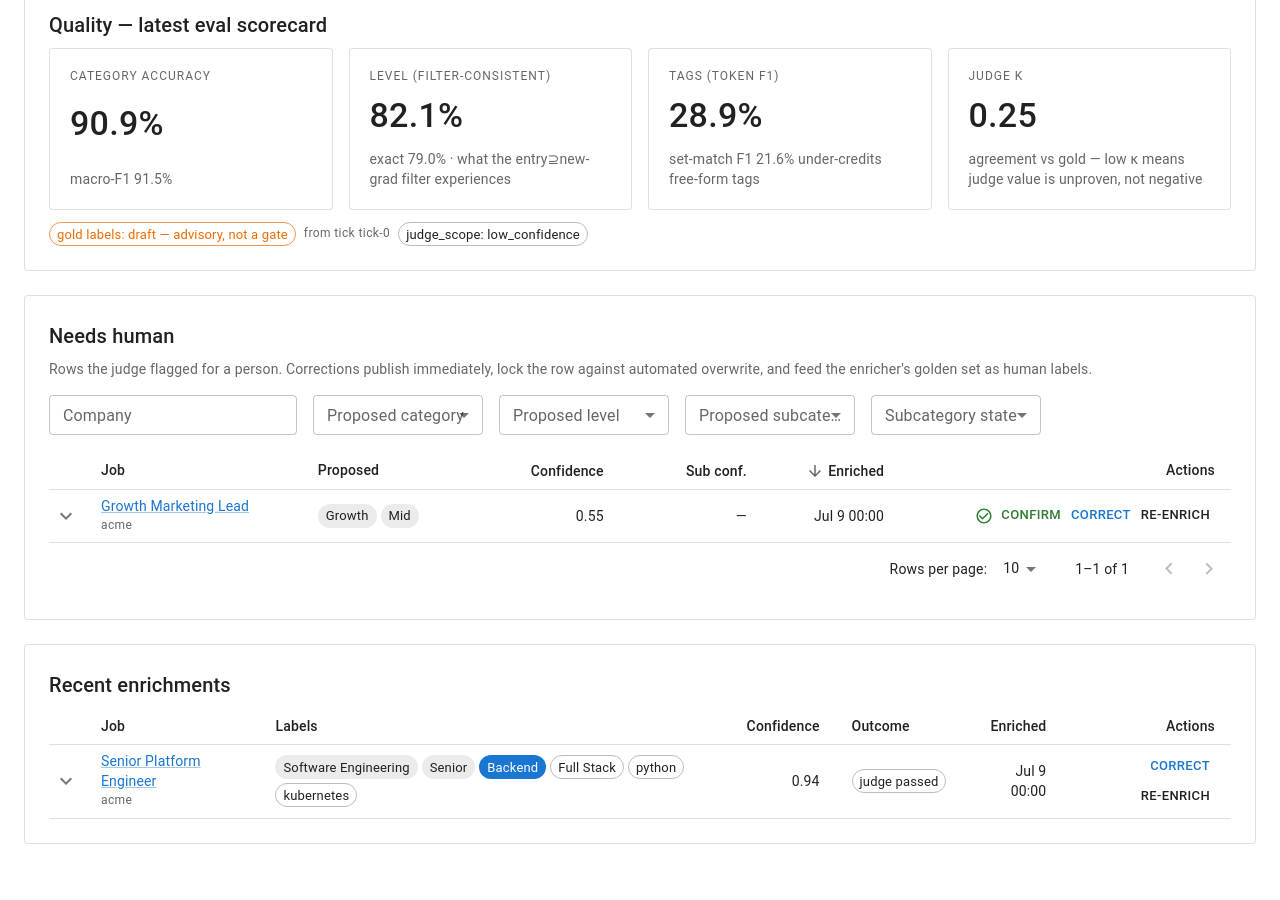
AdminEnrichmentPage › surfaces an error Alert when a needs-human re-enrich fails
This screenshot has width=1280, height=900.
(page scrolled)
Click the button "Re-enrich" in the row of "Growth Marketing Lead": (1175, 516) [1136, 500, 1215, 531]
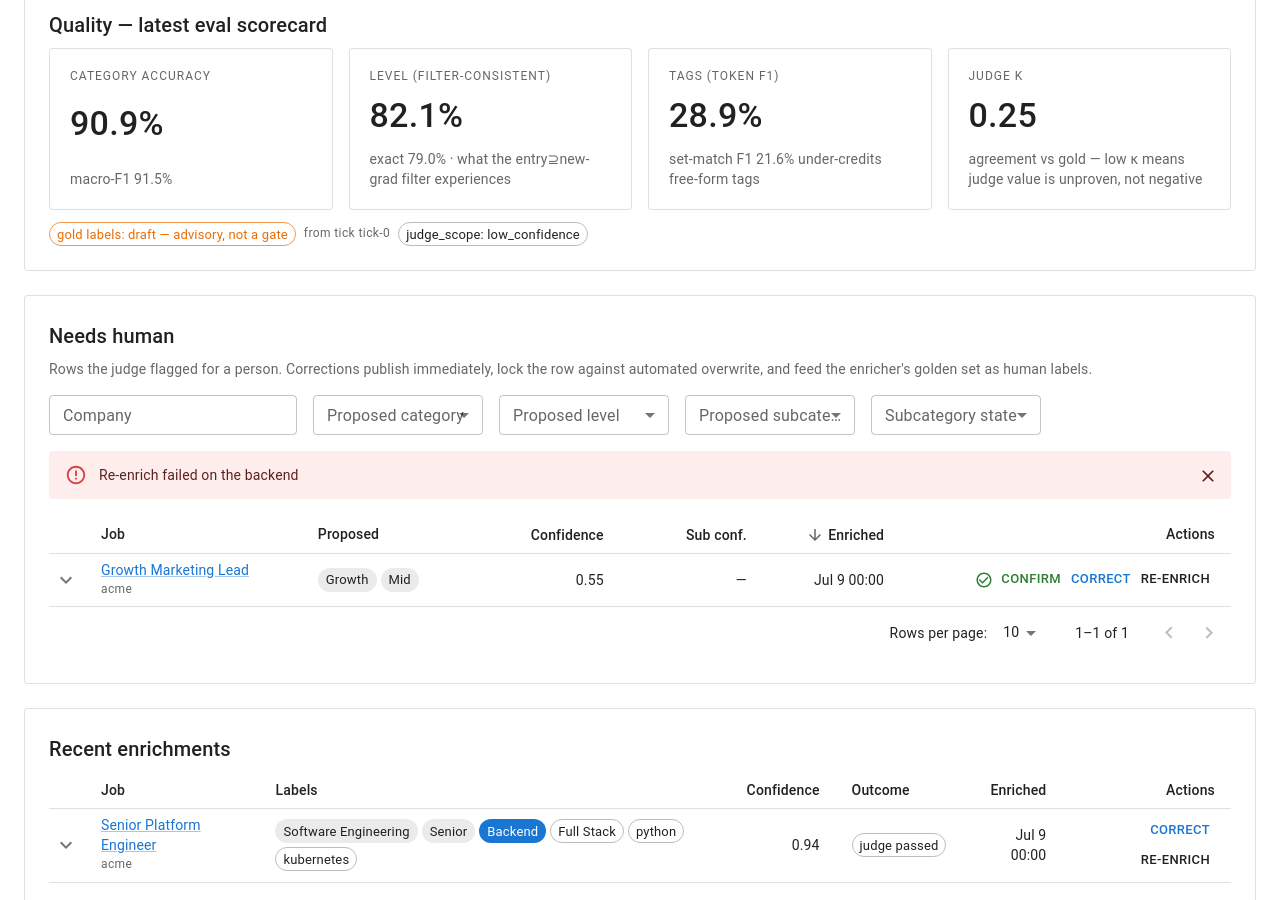
Expected: the message reads "Re-enrich failed on the backend", [99, 467, 299, 483]
